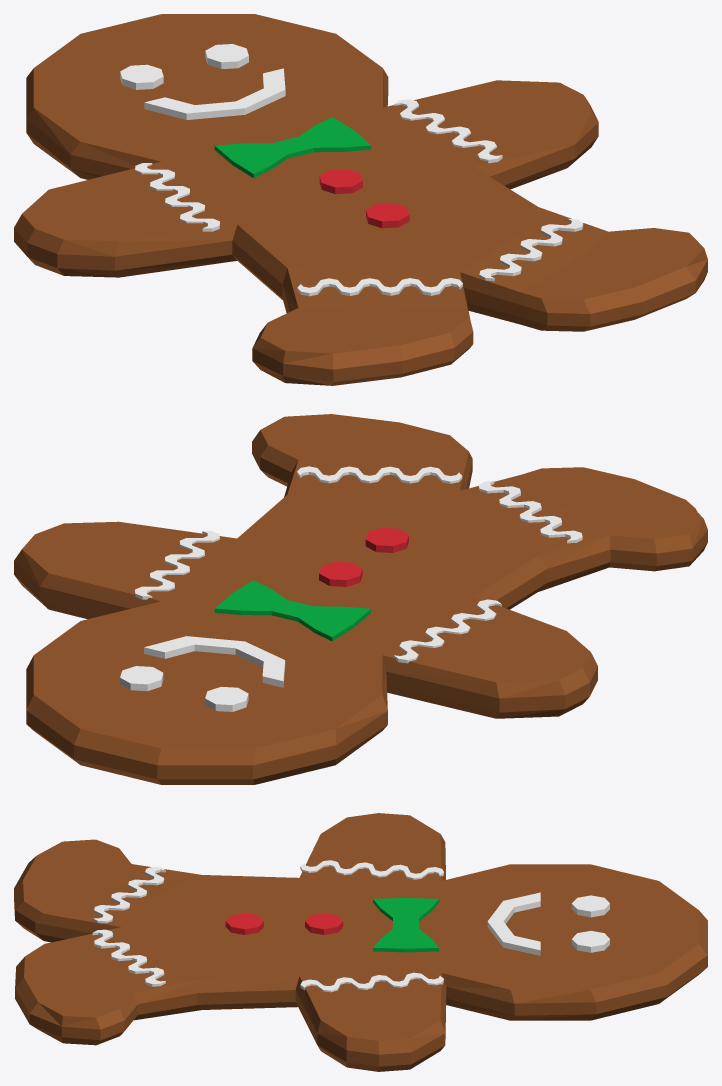
Rendered from cuIw8qvi-3T.glb.
3 views of the same model, one above another, from view 1: azimuth 30°, elevation 25°; view 2: azimuth 150°, elevation 25°; view 3: azimuth 270°, elevation 25° (orthographic). The views are drawn at different scales.
Parts seen in each view (by area): view 1: Node; view 2: Node; view 3: Node.
Part boxes in pixels (<box>): Node: <box>14,14,707,385</box>; Node: <box>14,414,707,784</box>; Node: <box>14,813,707,1071</box>.
Bounding box in the file's own units: 13.64 × 0.9997 × 17.1.
